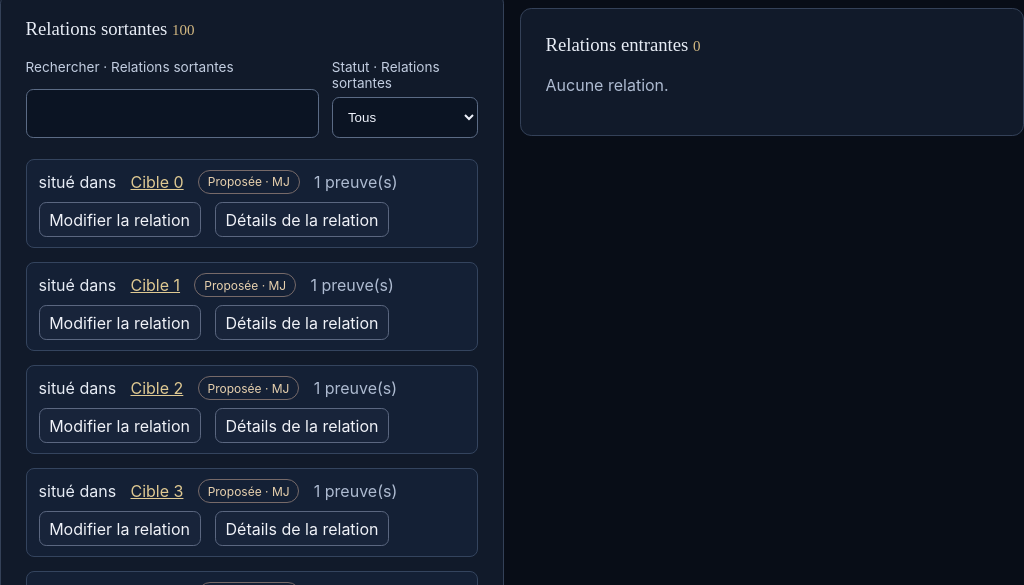
Scenario: relations et provenance admin › limite une fiche de 100 relations à dix lignes, sans rendre les preuves avant ouverture
(page scrolled)
Click the button "Détails de la relation" below "Cible 0".
click(302, 220)  # box x1=215 y1=202 x2=389 y2=237
(page scrolled)
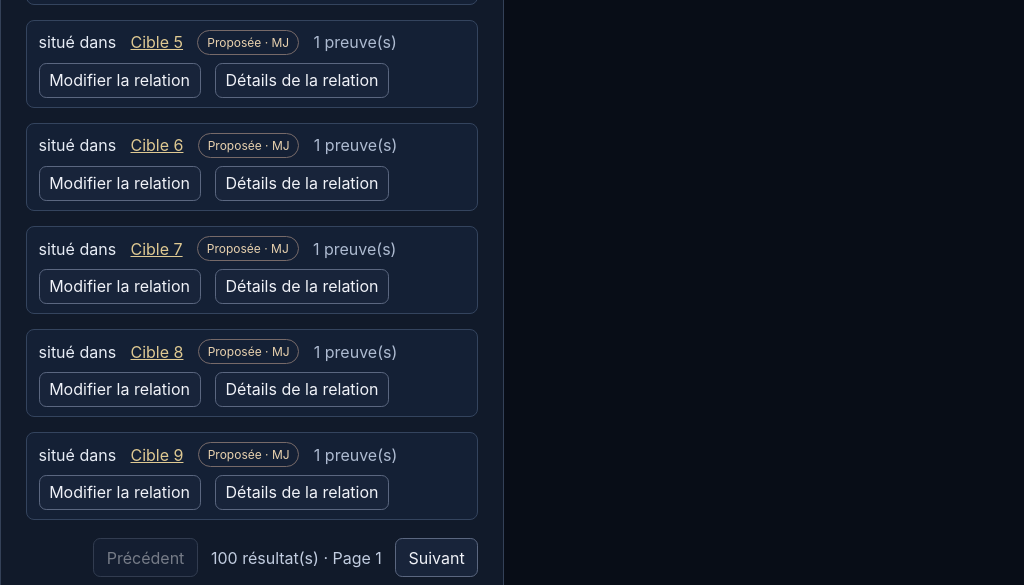
Click the button "Suivant".
click(437, 558)  # box x1=395 y1=538 x2=478 y2=577
(page scrolled)
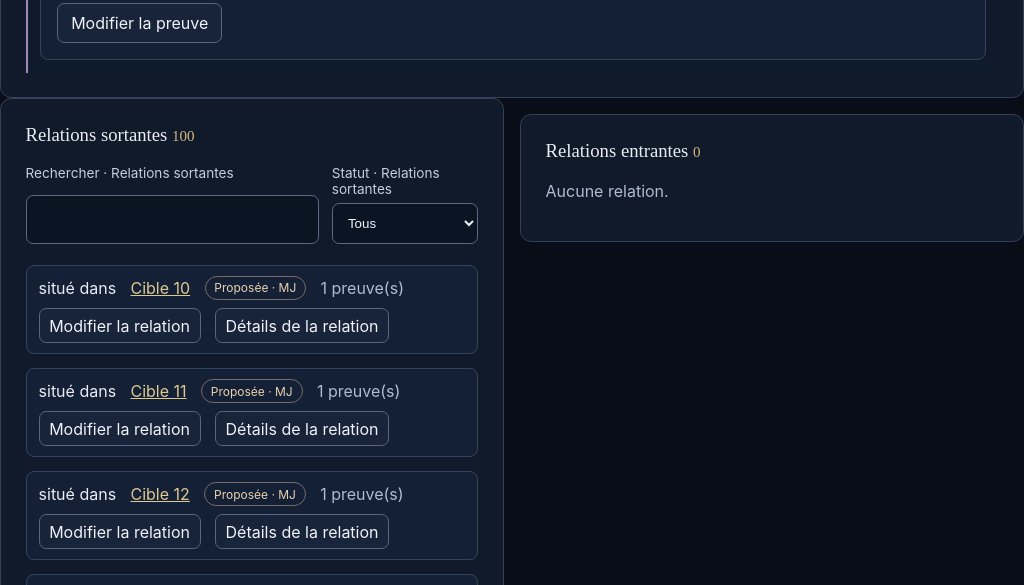
Check: the link "Cible 10" is shown, box x1=130 y1=278 x2=190 y2=298
Type "Cible 99" into the search field labelled "Rechercher · Relations sortantes".
click(172, 220); type("Cible 99")  # box x1=26 y1=195 x2=319 y2=244
(page scrolled)
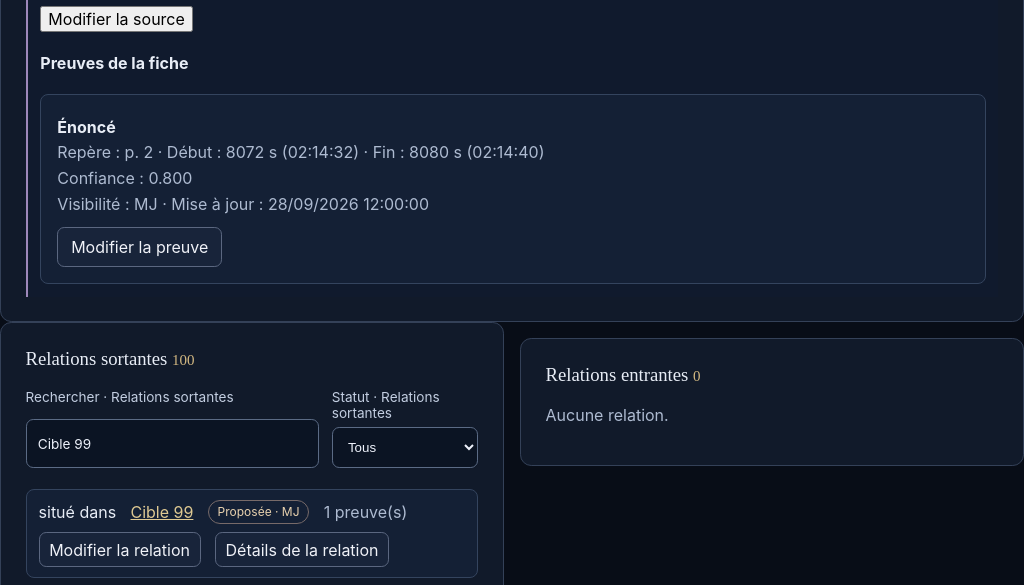
Check: the number of buttons "Détails de la relation" is 1, box x1=215 y1=532 x2=389 y2=567
Check: the link "Cible 99" is shown, box x1=130 y1=502 x2=193 y2=522
